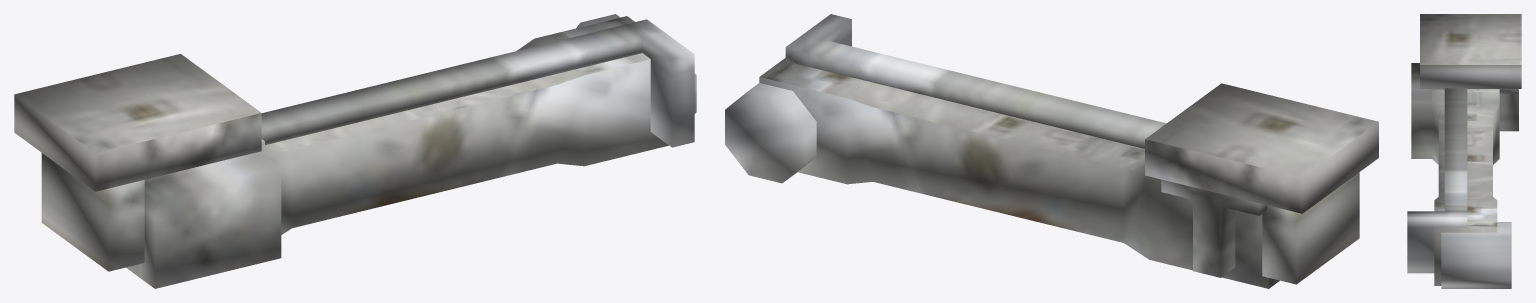
File: elbow_pitch.dae
3 renders of one model, left to right at view 1: azimuth 30°, elevation 25°; view 2: azimuth 150°, elevation 25°; view 3: azimuth 270°, elevation 25°, orthographic. The views are drawn at different scales.
Visible parts, largest first — view 1: 29 DEXTRE.007; view 2: 29 DEXTRE.007; view 3: 29 DEXTRE.007.
Boxes of the visible parts, <box> form: 29 DEXTRE.007: <box>14,14,696,288</box>; 29 DEXTRE.007: <box>725,14,1378,288</box>; 29 DEXTRE.007: <box>1407,14,1521,288</box>.
Size of the model in its own units: 1.46 by 0.3718 by 0.3348.
Materials: 1 (1 with a texture image).
